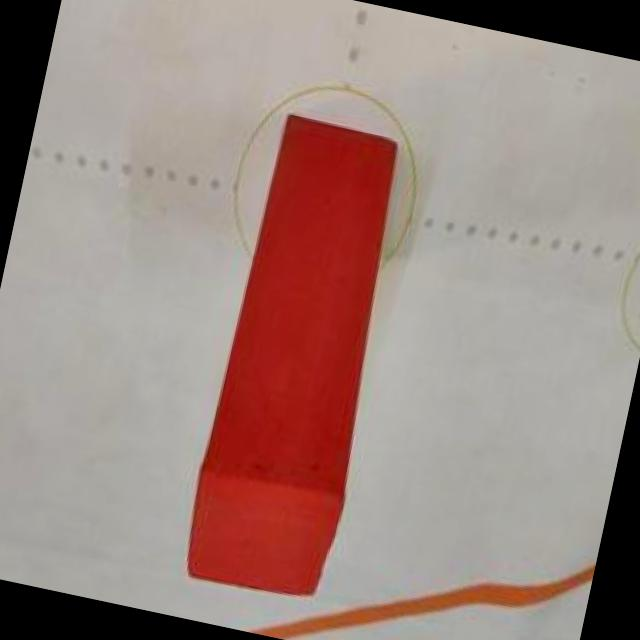redbox: (178, 109, 418, 606)
